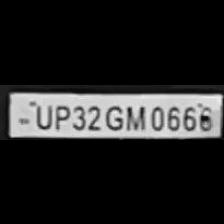0: (147, 102, 165, 130)
2: (84, 102, 102, 130)
3: (70, 102, 86, 130)
6: (196, 100, 214, 130), (164, 102, 180, 131), (180, 102, 196, 131)
G: (104, 102, 124, 130)
M: (125, 100, 145, 130)
P: (52, 102, 68, 130)
U: (32, 101, 52, 129)
